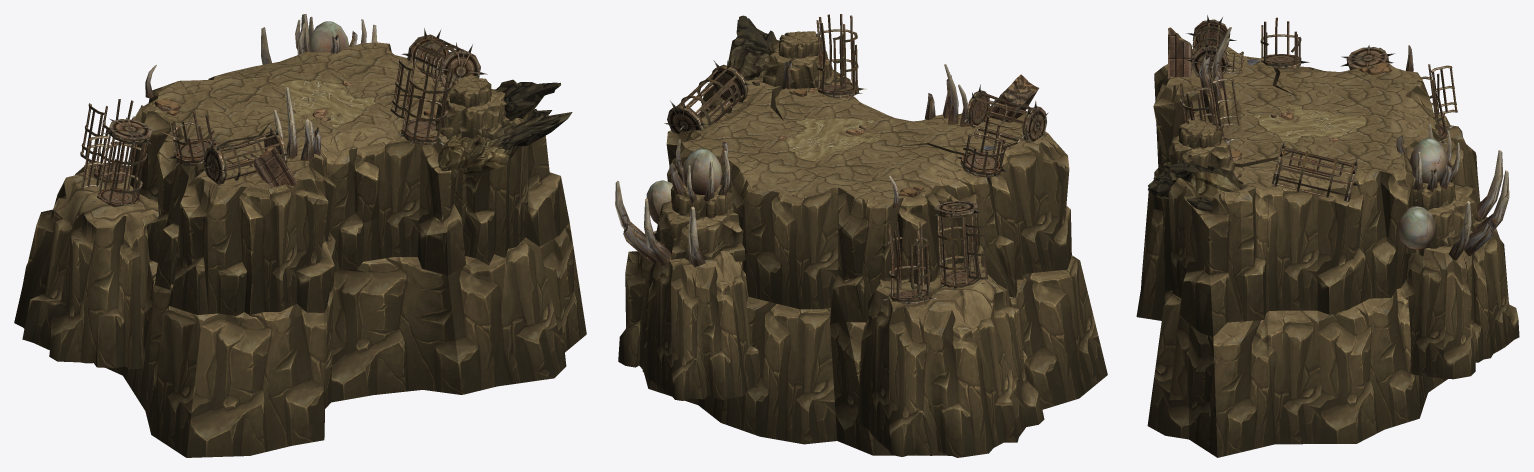
The model's file is Cell2UD.fbx.
3 views of the same model, side by side, from view 1: azimuth 30°, elevation 25°; view 2: azimuth 150°, elevation 25°; view 3: azimuth 270°, elevation 25° (orthographic). The views are drawn at different scales.
Visible parts, largest first — view 1: Cell2UD; view 2: Cell2UD; view 3: Cell2UD.
Boxes of the visible parts, x1,y1,x2,y2 form: Cell2UD: (14, 14, 586, 457); Cell2UD: (615, 14, 1107, 457); Cell2UD: (1136, 15, 1519, 457).
Size of the model in its own units: 24.22 by 15.92 by 18.37.
